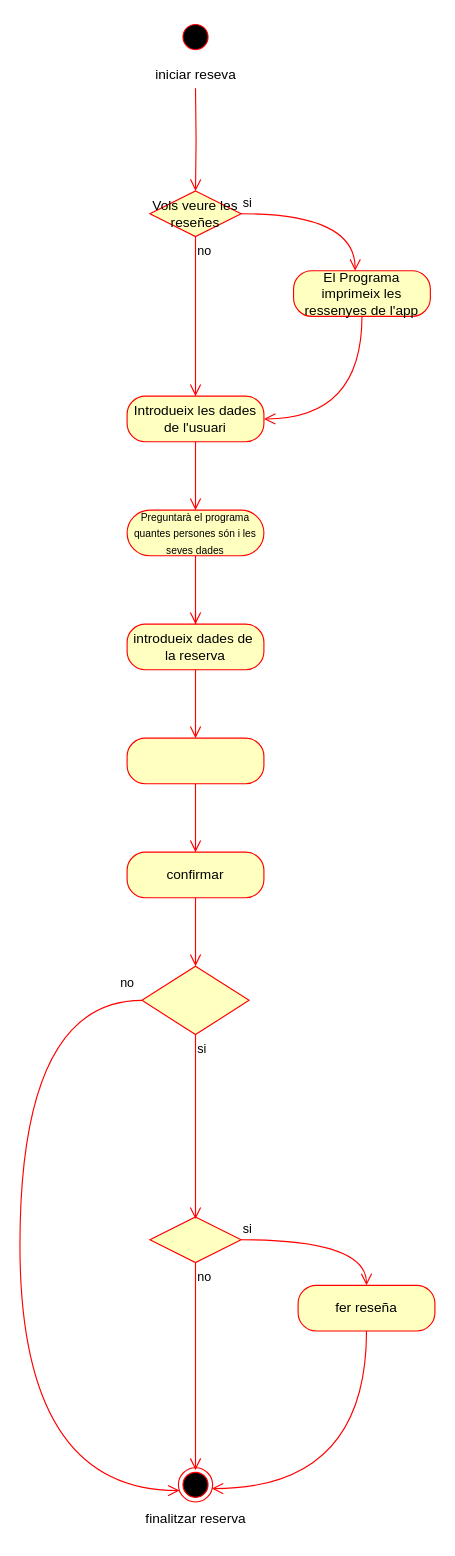
Some shapes in this 455 by 1556 pixel diagram are drawn without their labels. The centre of each missing label's shape, as x and y in pixels:
mostrar resum: (195,760)
segur que vols confirmar: (195,1000)
vols fer reseña: (195,1239)
